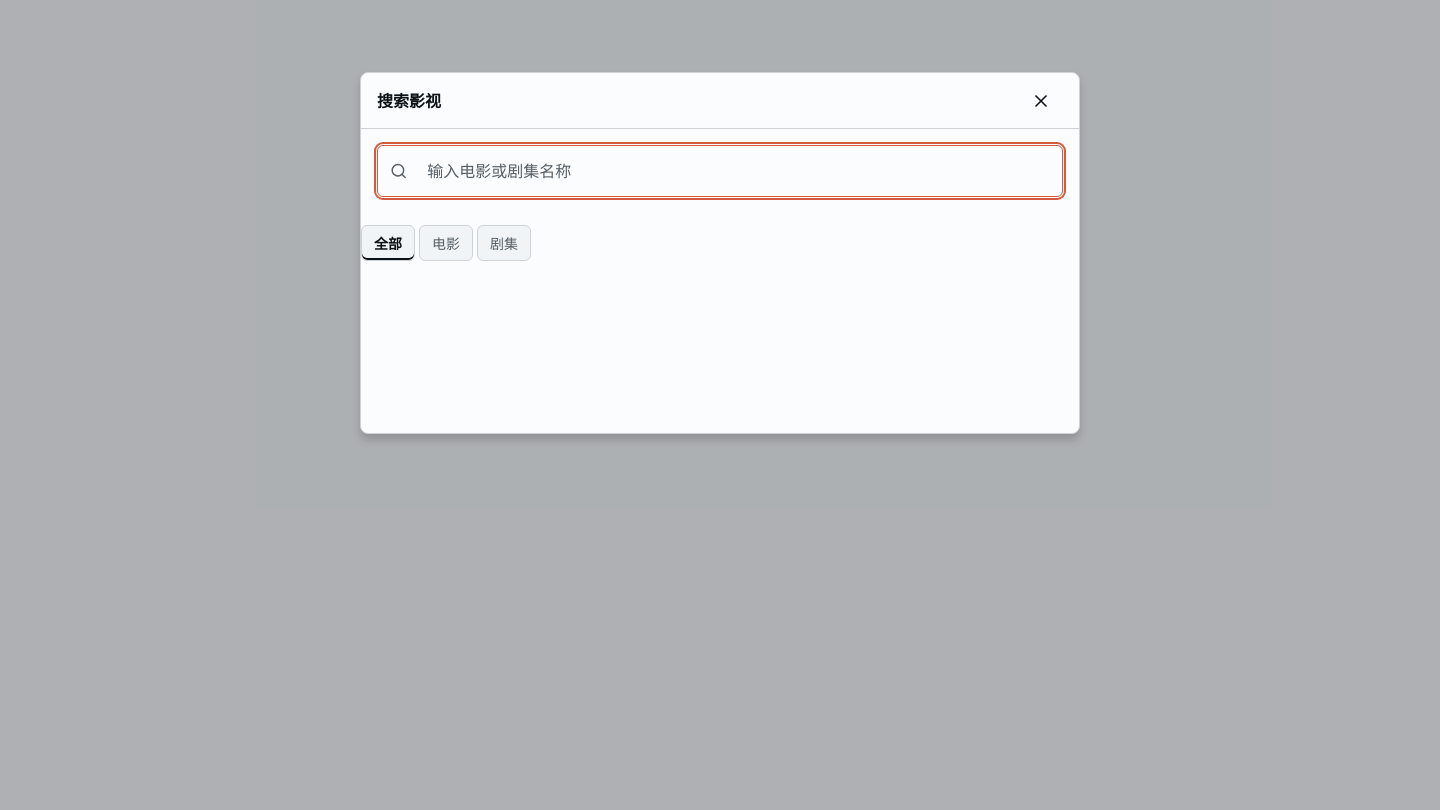
Test: SearchDialog › debounces for 300ms and renders deduplicated local and TMDB sections
Type "沙丘" into the search field named "搜索影视".
click(733, 171); type("沙丘")  # box [415,149,1050,193]
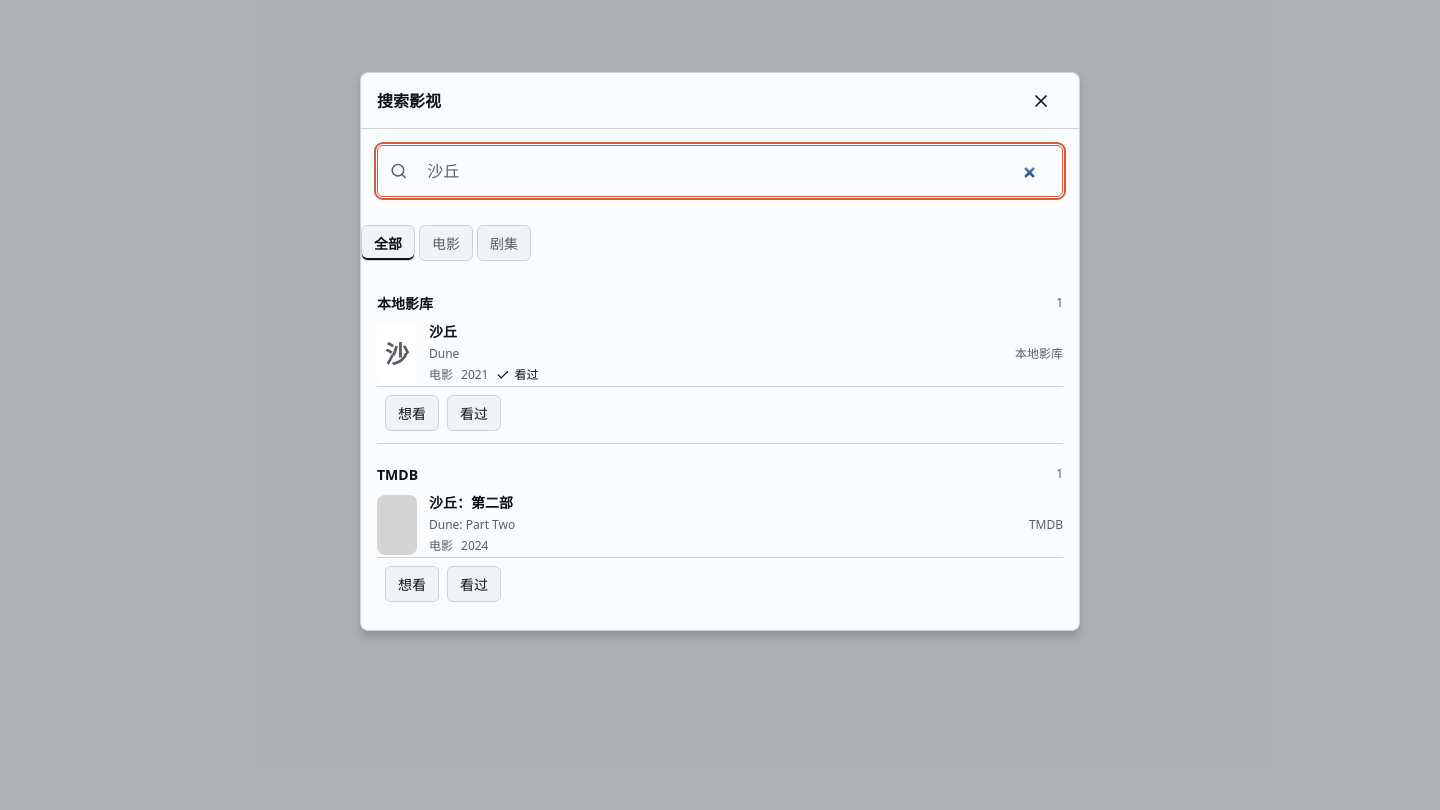
Expected: the text "2021" is shown, [461,366,488,384]
Expected: the text "看过" is shown, [496,366,538,384]
Expected: the text "Dune: Part Two" is shown, [429,516,515,533]
